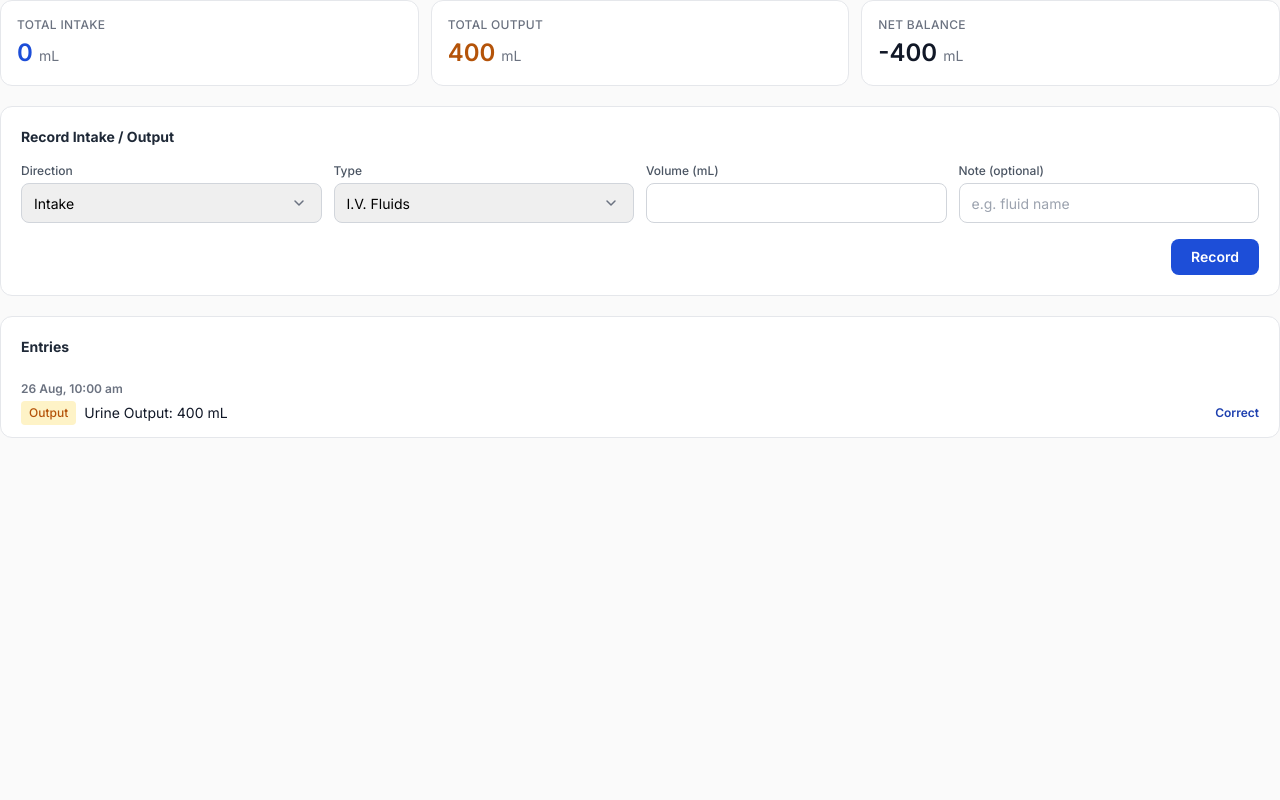
Test case: IoChartPanel — ICU I/O (ICU-5) › corrects an entry: original preserved, only the new value counts
This screenshot has width=1280, height=800.
Click the button "Correct" at (1237, 413), box [1215,405,1259,421]
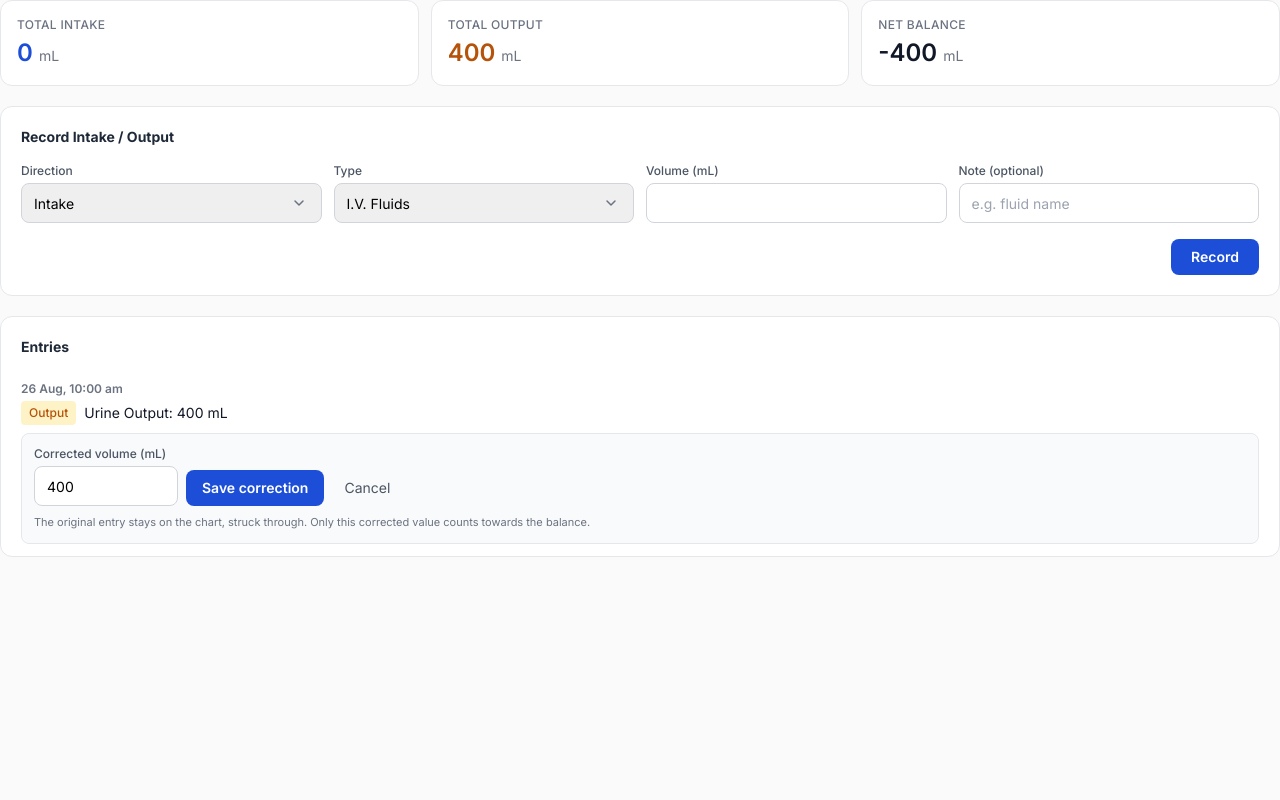
Replace the text in the number field labelled "Corrected volume (mL)" with "350" at (106, 486), box [34,466,178,506]
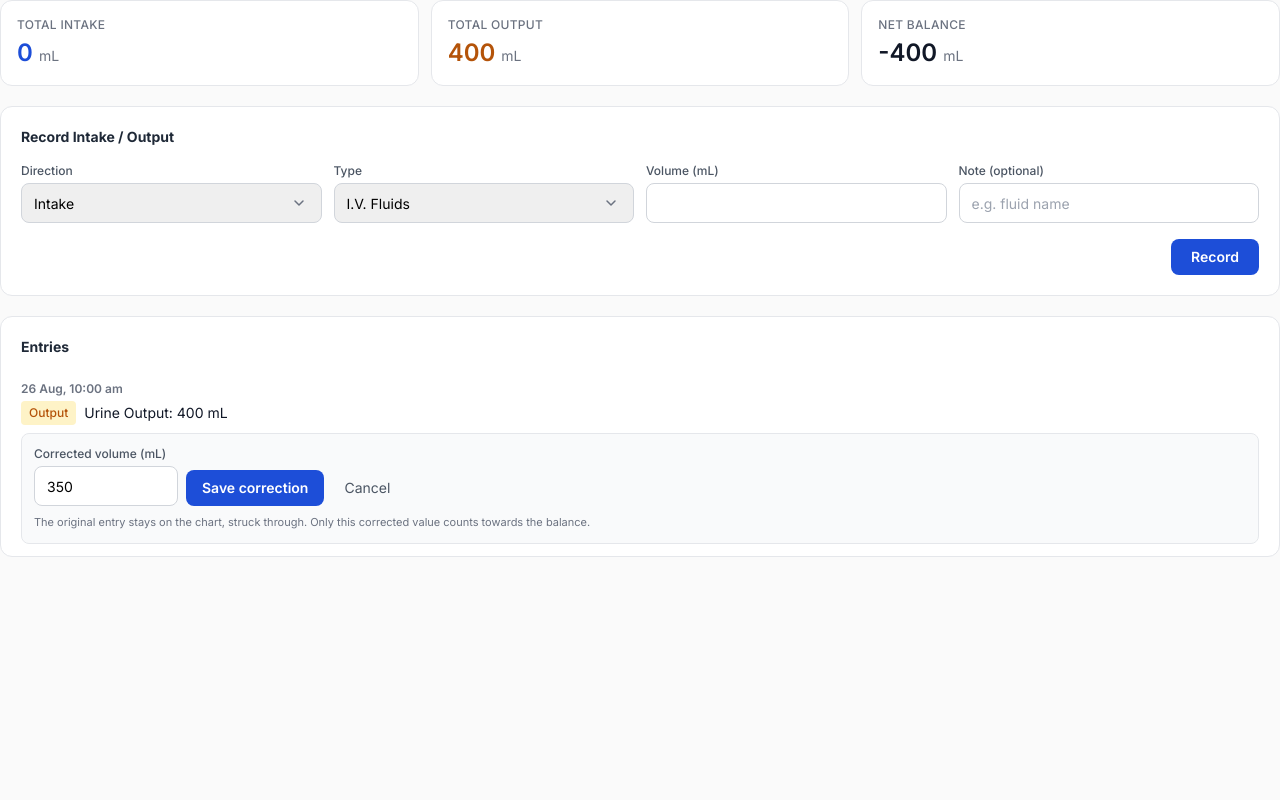
Click the button "Save correction" at (255, 488), box [186,470,324,506]
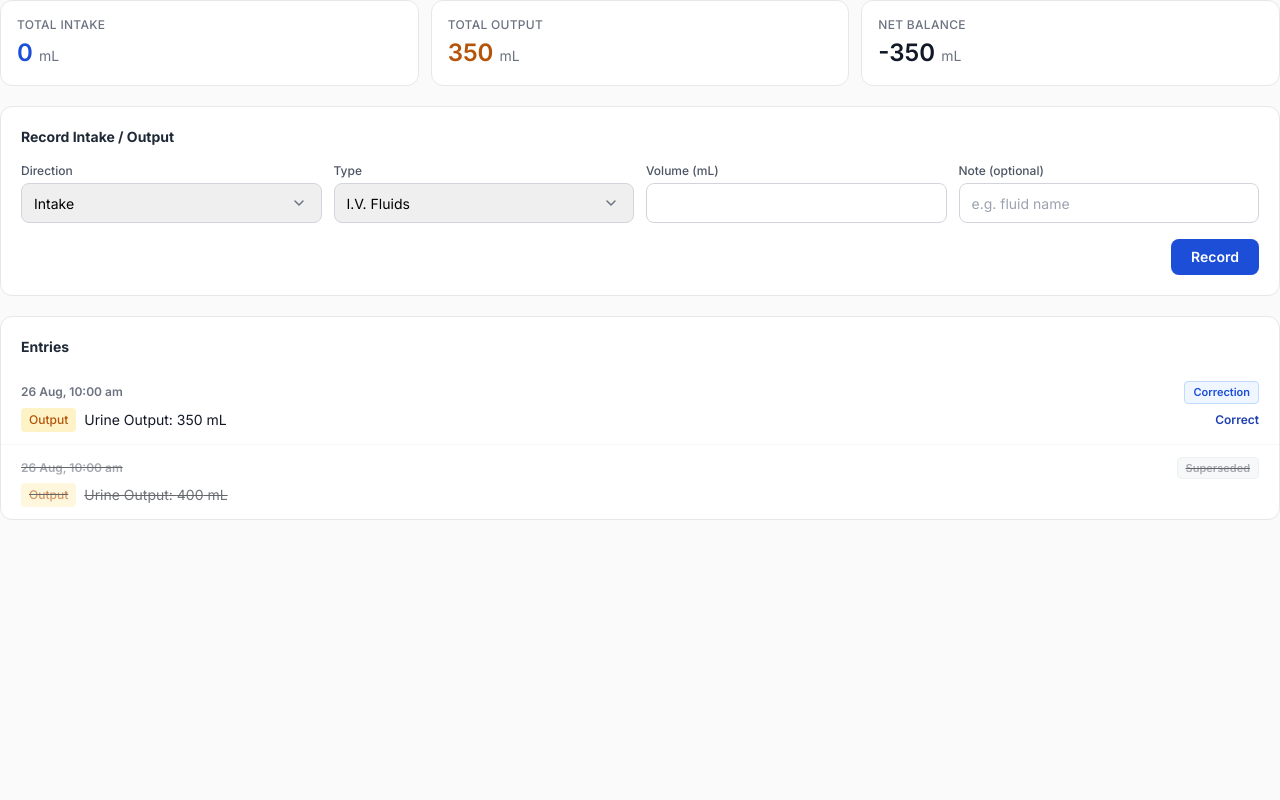
Expected: the text "Urine Output: 350 mL" is shown, [84,410,227,430]
Expected: the text "Superseded" is shown, [1177,456,1259,479]
Expected: the text "350" is shown, [448,38,494,67]
